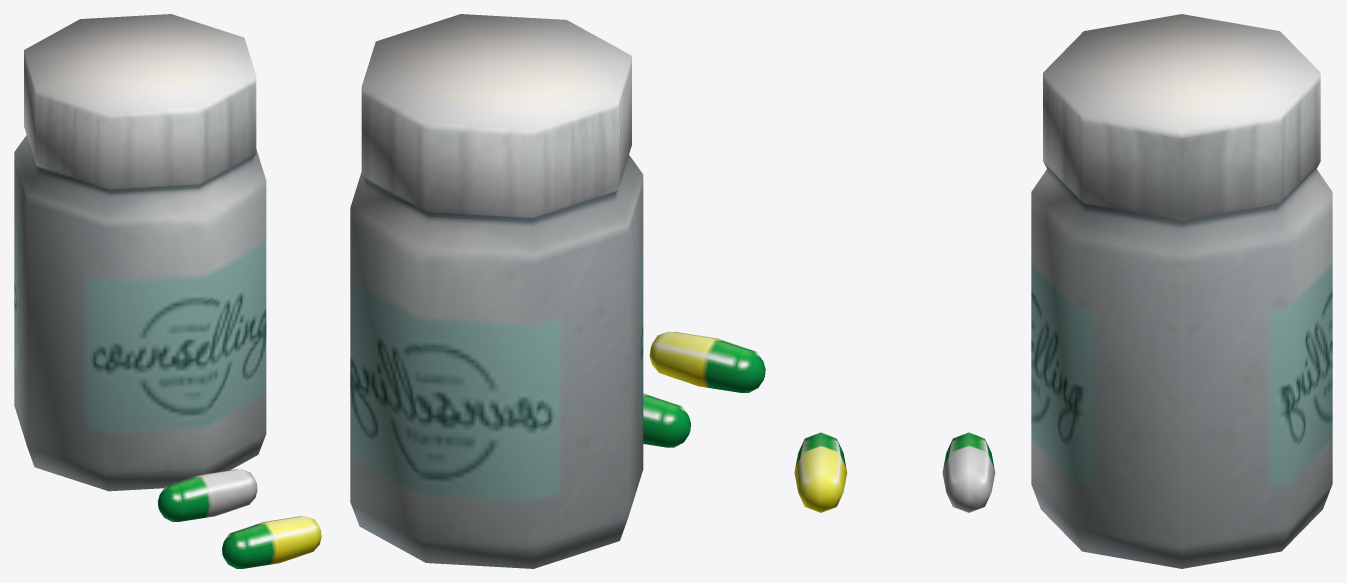
File: XiuXiShi_01_yaoping_02.FBX
3 views of the same model, side by side, from view 1: azimuth 30°, elevation 25°; view 2: azimuth 150°, elevation 25°; view 3: azimuth 270°, elevation 25° (orthographic). The views are drawn at different scales.
Visible parts, largest first — view 1: XiuXiShi_yaoping_02; view 2: XiuXiShi_yaoping_02; view 3: XiuXiShi_yaoping_02.
Boxes of the visible parts, box(x1,y1,x2,y2) form: XiuXiShi_yaoping_02: box(14, 14, 321, 568); XiuXiShi_yaoping_02: box(350, 14, 765, 568); XiuXiShi_yaoping_02: box(794, 14, 1332, 568).
Size of the model in its own units: 29.8 by 47.82 by 53.23.
